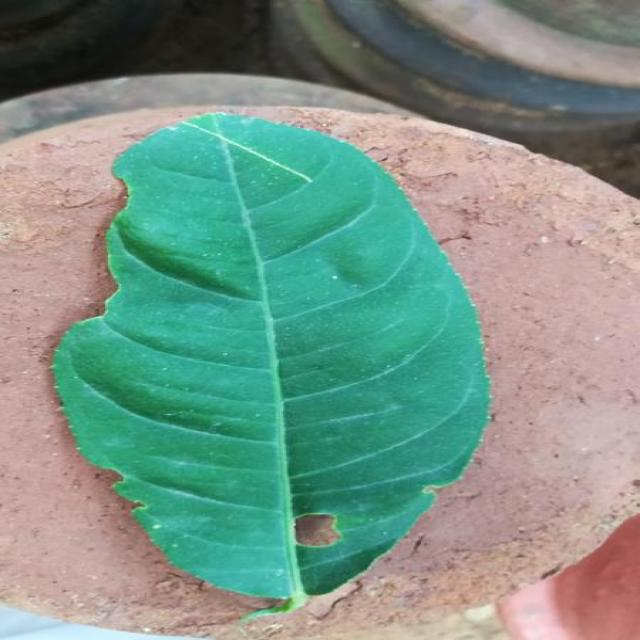badipala: (53, 112, 488, 606)
defectedbadipala: (285, 418, 407, 594)
